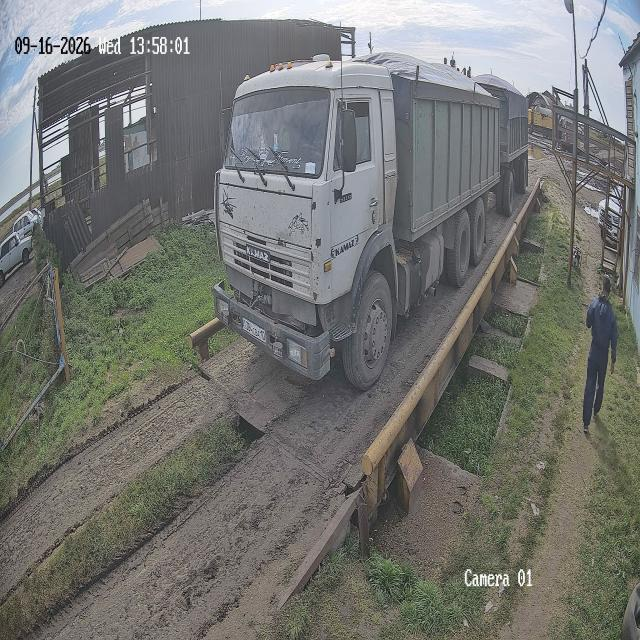license plate: (242, 316, 266, 342)
trailer: (491, 89, 535, 211)
truck: (212, 58, 496, 389), (528, 105, 553, 139)
